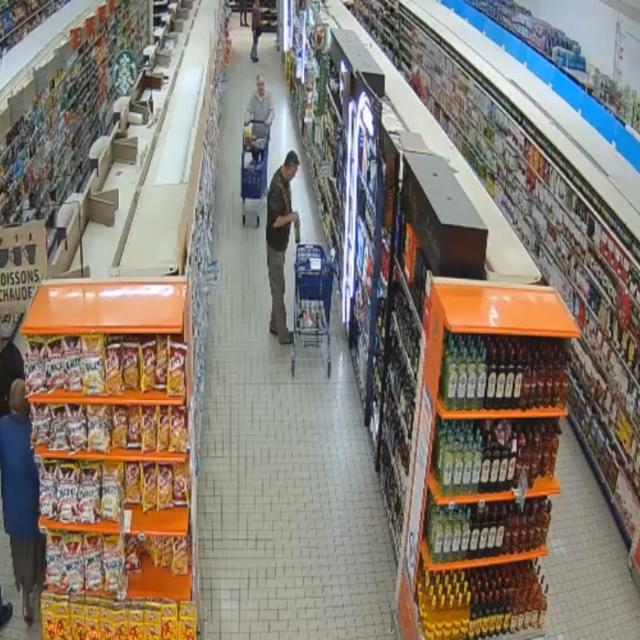article: (294, 218, 300, 243)
hands: (291, 212, 299, 222)
person: (0, 380, 45, 623), (267, 151, 299, 344), (245, 74, 274, 161)
